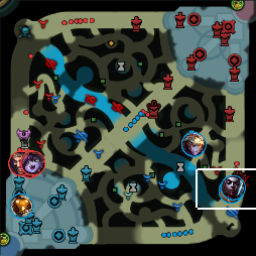bard: (9, 194, 33, 217)
draven: (7, 151, 30, 175)
ekko: (220, 174, 244, 199)
ezreal: (180, 131, 206, 156)
lulu: (21, 150, 45, 172)
